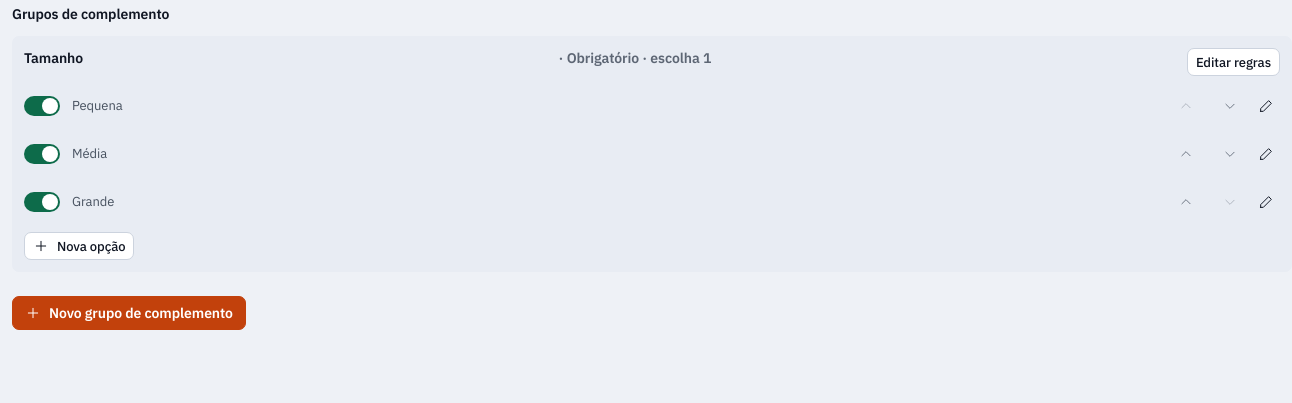
Test: reordenar as opções › falhando no meio, relê a lista em vez de mostrar a ordem que não gravou
Click the button with test id "opcao-descer-o-0": (1230, 106) [1208,84,1252,128]
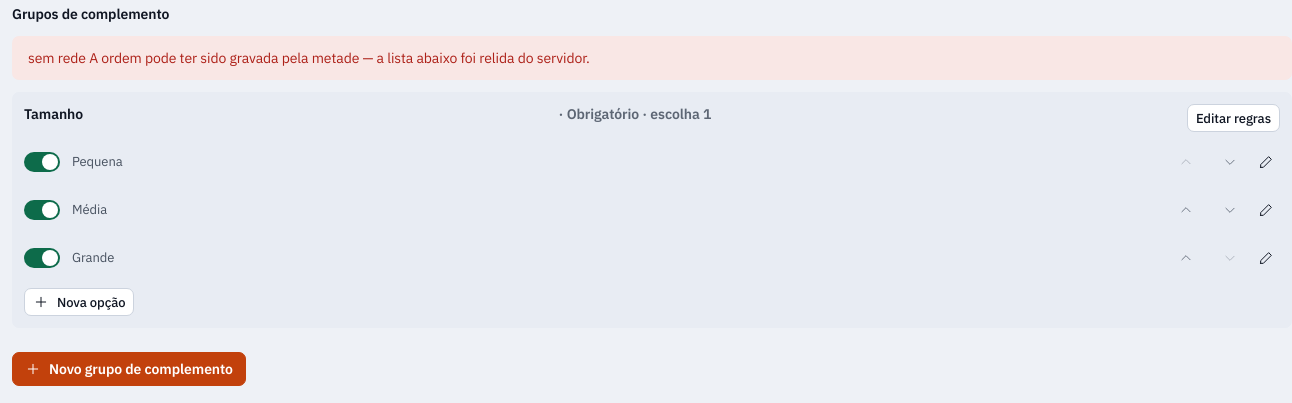
Result: the message with test id "grupos-erro" is shown at [12,36,1291,80]
Result: the message with test id "grupos-erro" shows "ordem" at [28,49,590,67]
